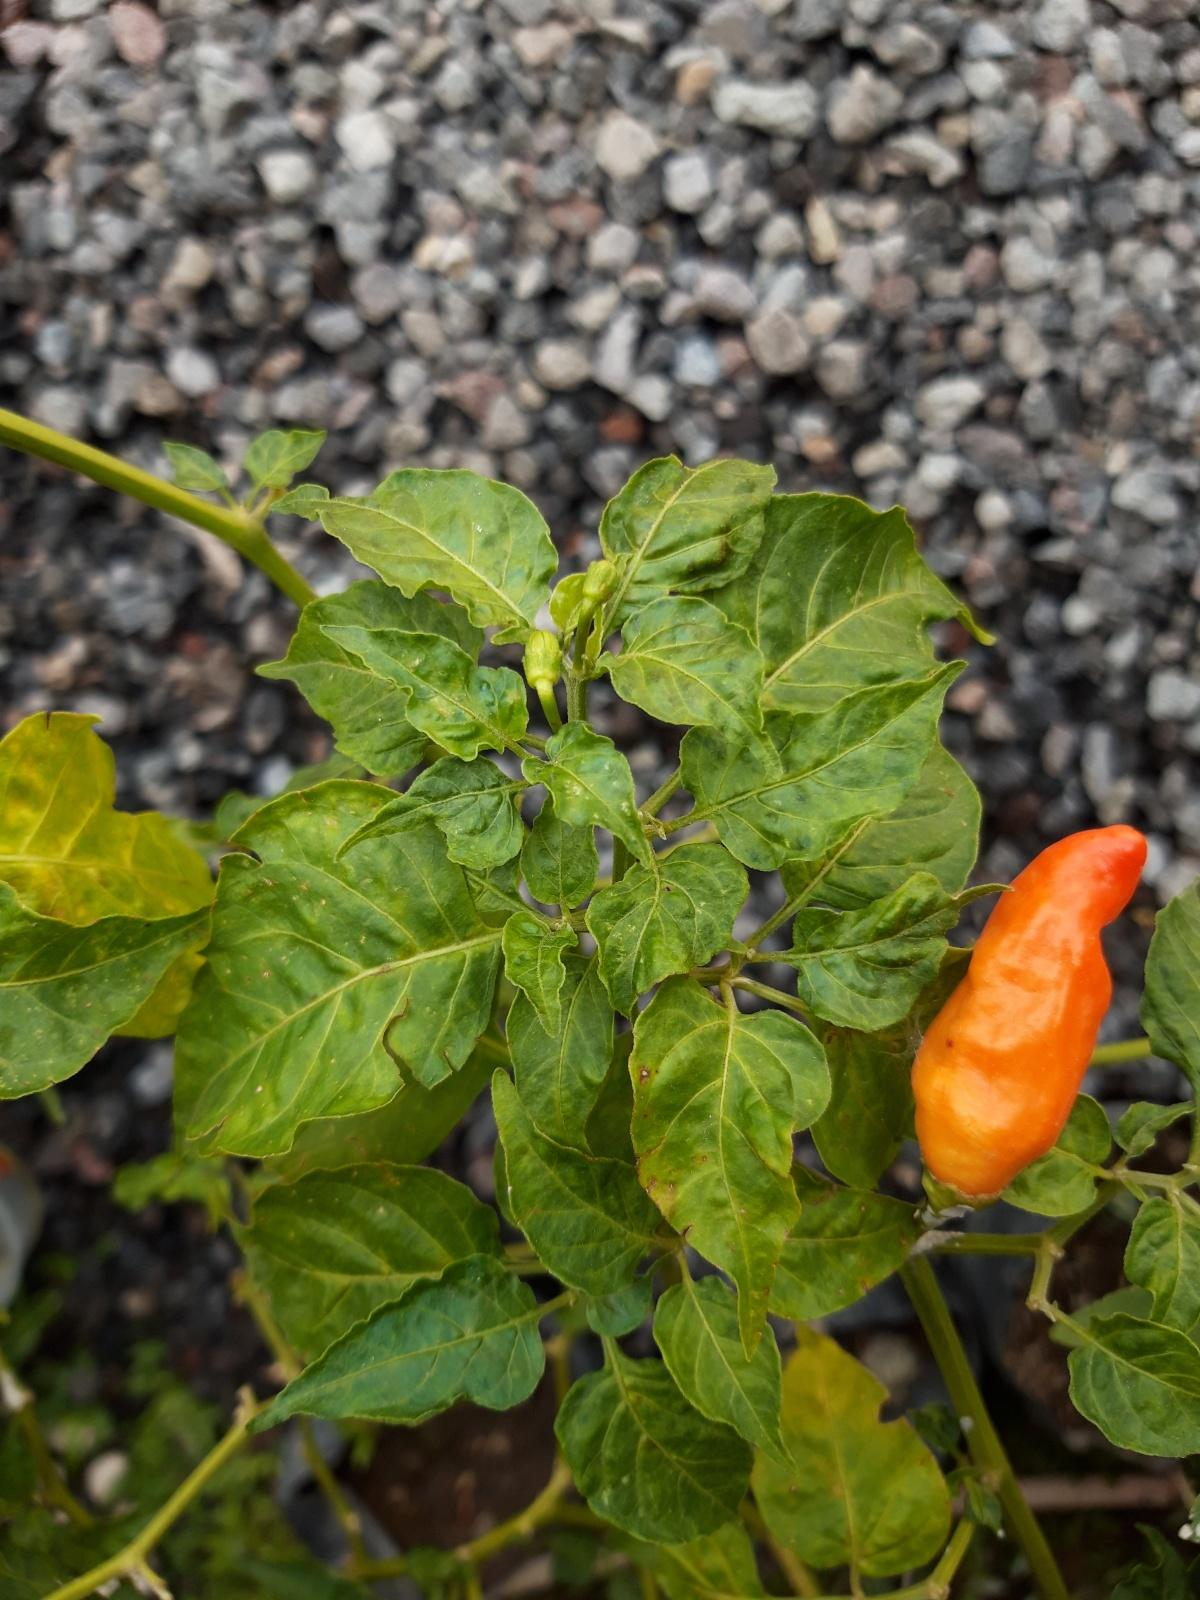cabai_normal: (905, 821, 1146, 1191)
